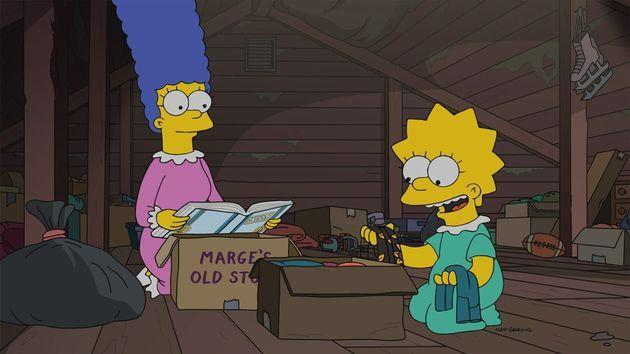Lisa: (373, 92, 522, 334)
Marge: (105, 0, 266, 317)
